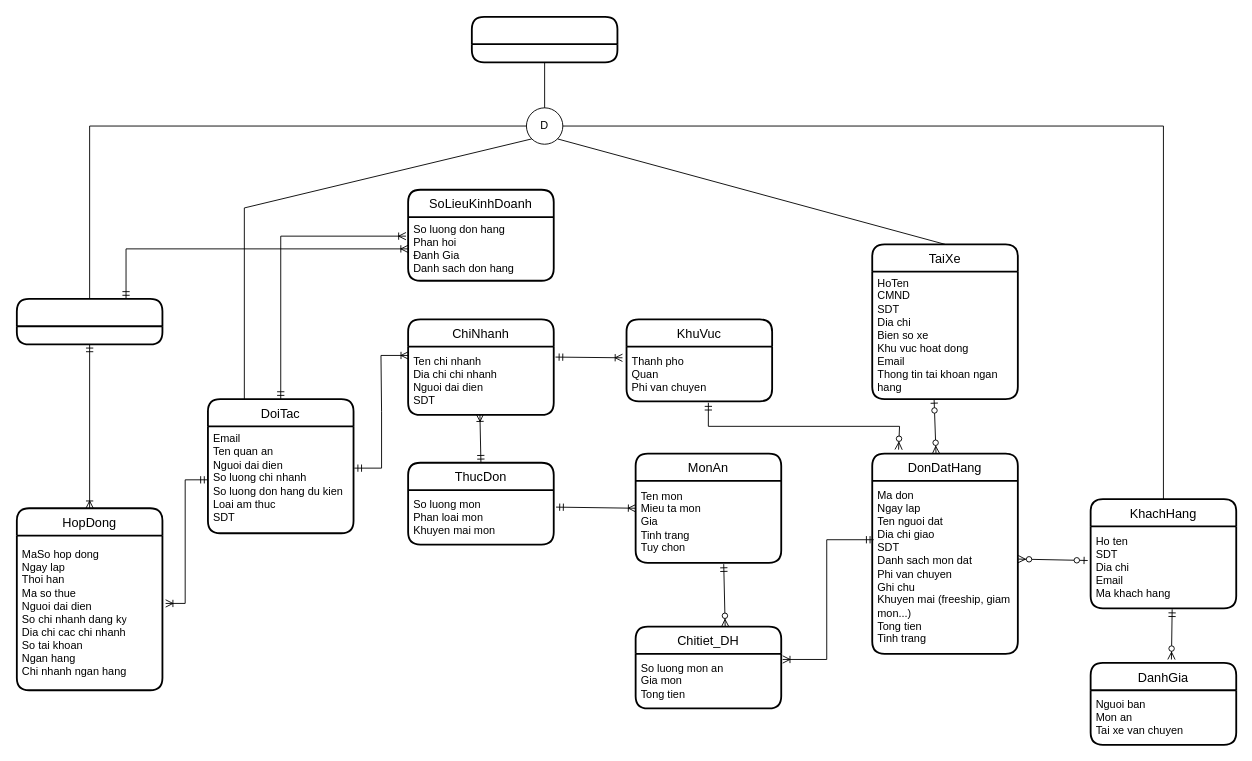
This 1252x761 diagram has some shape labels left out. The centre of each missing label's shape, as x and y in pixels:
NhanVienCTy: the point at 89,321
QuanTriNguoiDung: the point at 544,39
